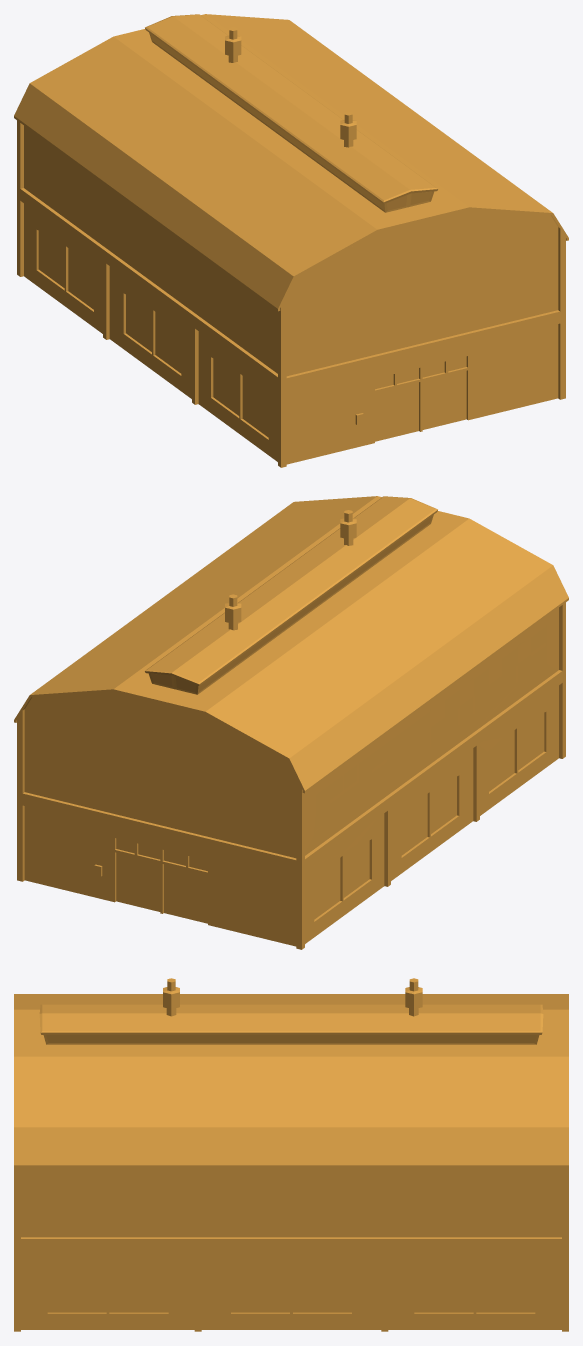
The model's file is industry-factory-hall.fbx.
3 views of the same model, one above another, from view 1: azimuth 30°, elevation 25°; view 2: azimuth 150°, elevation 25°; view 3: azimuth 270°, elevation 25° (orthographic). The views are drawn at different scales.
Parts seen in each view (by area): view 1: industry-factory-hall; view 2: industry-factory-hall; view 3: industry-factory-hall.
Boxes of the visible parts, x1=… form: industry-factory-hall: x1=14, y1=14, x2=568, y2=467; industry-factory-hall: x1=14, y1=496, x2=568, y2=949; industry-factory-hall: x1=14, y1=978, x2=568, y2=1331.
Size of the model in its own units: 12.78 by 11.11 by 20.08.
